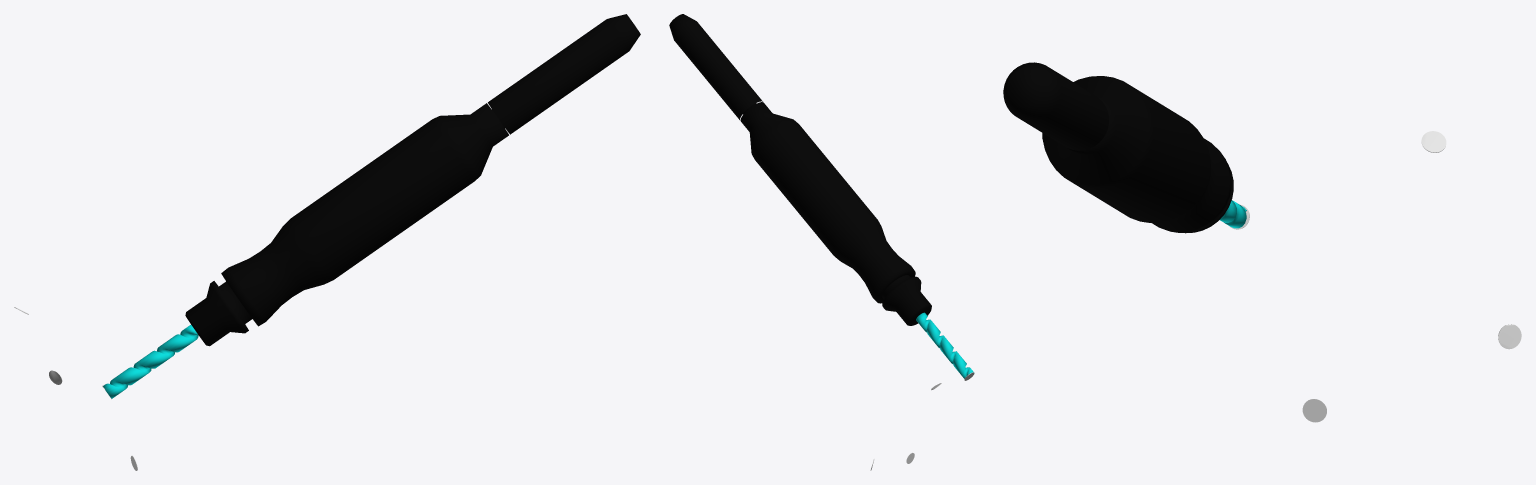
File: guide_dril_holes.glb
The picture shows the model from 3 angles, left to right: view 1: azimuth 30°, elevation 25°; view 2: azimuth 150°, elevation 25°; view 3: azimuth 270°, elevation 25°; orthographic projection. The views are drawn at different scales.
Visible parts, largest first — view 1: Power Drill.001; view 2: Power Drill.001; view 3: Power Drill.001, DrillHoles.002.
Boxes of the visible parts, left/top/right/bottom form: Power Drill.001: left=103, top=14, right=640, bottom=398; Power Drill.001: left=669, top=14, right=973, bottom=378; Power Drill.001: left=1003, top=62, right=1246, bottom=233; DrillHoles.002: left=1230, top=131, right=1521, bottom=422.
Bounding box in the file's own units: 0.1557 × 0.1297 × 0.0943.
